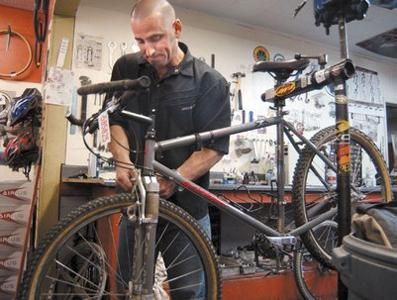person: (102, 1, 235, 300)
